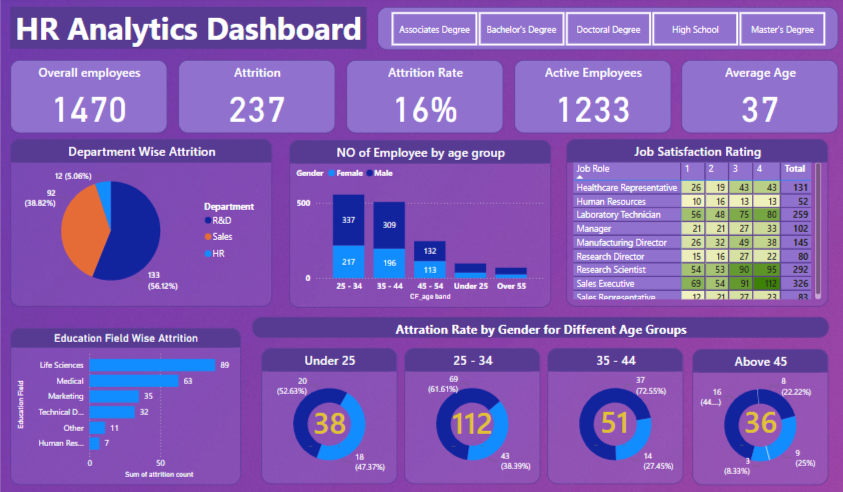

Layout of this report page (visuals, bound fields, positions):
{"tool":"powerbi","page":{"name":"Page 1","canvas":[1290,760],"ordinal":0},"visuals":[{"type":"card","title":"Overall  employees","fields":{"Values":["Sum(HR data.Employee Count)"]},"box":[16,96,240,112],"z":0},{"type":"card","title":"Attrition","fields":{"Values":["Sum(HR data.attrition count)"]},"box":[272,96,240,112],"z":1000},{"type":"card","title":"Attrition Rate","fields":{"Values":["HR data.Attrition Rate"]},"box":[528,96,240,112],"z":2000},{"type":"card","title":"Active Employees","fields":{"Values":["HR data.Active Employees"]},"box":[784,96,240,112],"z":3000},{"type":"card","title":"Average Age","fields":{"Values":["Avg(HR data.Age)"]},"box":[1040,96,240,112],"z":4000},{"type":"pieChart","title":"Department Wise Attrition","fields":{"Category":["HR data.Department"],"Y":["Sum(HR data.attrition count)"]},"box":[16,216.9,400,256],"z":5000},{"type":"columnChart","title":"NO of Employee by age group","fields":{"Category":["HR data.CF_age band"],"Y":["Sum(HR data.Employee Count)"],"Series":["HR data.Gender"]},"box":[440.9,217.8,400,256],"z":6000},{"type":"pivotTable","title":"Job Satisfaction Rating","fields":{"Rows":["HR data.Job Role"],"Columns":["HR data.Job Satisfaction"],"Values":["Sum(HR data.Employee Count)"]},"box":[864,216.9,400,256],"z":7000},{"type":"barChart","title":" Education Field Wise Attrition","fields":{"Category":["HR data.Education Field"],"Y":["Sum(HR data.attrition count)"]},"box":[16,504.9,352,240],"z":8000},{"type":"donutChart","title":"Under 25","fields":{"Category":["HR data.Gender"],"Y":["Sum(HR data.attrition count)"],"Series":["HR data.CF_age band"]},"box":[398,536.1,208,208],"z":9000},{"type":"textbox","title":"Attration Rate by Gender for Different Age Groups","box":[384,488.9,880,32],"z":10000},{"type":"donutChart","title":"25 - 34","fields":{"Category":["HR data.Gender"],"Y":["Sum(HR data.attrition count)"],"Series":["HR data.CF_age band"]},"box":[616.6,536.1,208,208],"z":11000},{"type":"donutChart","title":"35 - 44","fields":{"Category":["HR data.Gender"],"Y":["Sum(HR data.attrition count)"],"Series":["HR data.CF_age band"]},"box":[835.3,536.1,208,208],"z":12000},{"type":"donutChart","title":"Above 45","fields":{"Category":["HR data.Gender"],"Y":["Sum(HR data.attrition count)"],"Series":["HR data.CF_age band"]},"box":[1056,536.9,208,208],"z":13000},{"type":"card","fields":{"Values":["Sum(HR data.attrition count)"]},"box":[463,627,80,64],"z":14000},{"type":"card","fields":{"Values":["Sum(HR data.attrition count)"]},"box":[680,627,80,64],"z":15000},{"type":"card","fields":{"Values":["Sum(HR data.attrition count)"]},"box":[898,626,80,64],"z":16000},{"type":"card","fields":{"Values":["Sum(HR data.attrition count)"]},"box":[1120,626,80,64],"z":17000},{"type":"textbox","title":"HR Analytics Dashboard","box":[16,16,544,64],"z":18000},{"type":"slicer","fields":{"Values":["HR data.Education"]},"box":[576,16,704,66],"z":18001}]}

Visuals, with their boxes in screenshot pixels (x1, y1, x2, y2), scaled from the page's 1290x760 canvas onto the 843x492 screenshot:
"Overall  employees" card: region(10, 62, 167, 135)
"Attrition" card: region(178, 62, 335, 135)
"Attrition Rate" card: region(345, 62, 502, 135)
"Active Employees" card: region(512, 62, 669, 135)
"Average Age" card: region(680, 62, 836, 135)
"Department Wise Attrition" pieChart: region(10, 140, 272, 306)
"NO of Employee by age group" columnChart: region(288, 141, 550, 307)
"Job Satisfaction Rating" pivotTable: region(565, 140, 826, 306)
" Education Field Wise Attrition" barChart: region(10, 327, 240, 482)
"Under 25" donutChart: region(260, 347, 396, 482)
"Attration Rate by Gender for Different Age Groups" textbox: region(251, 316, 826, 337)
"25 - 34" donutChart: region(403, 347, 539, 482)
"35 - 44" donutChart: region(546, 347, 682, 482)
"Above 45" donutChart: region(690, 348, 826, 482)
card - Sum(HR data.attrition count): region(303, 406, 355, 447)
card - Sum(HR data.attrition count): region(444, 406, 497, 447)
card - Sum(HR data.attrition count): region(587, 405, 639, 447)
card - Sum(HR data.attrition count): region(732, 405, 784, 447)
"HR Analytics Dashboard" textbox: region(10, 10, 366, 52)
slicer - HR data.Education: region(376, 10, 836, 53)
